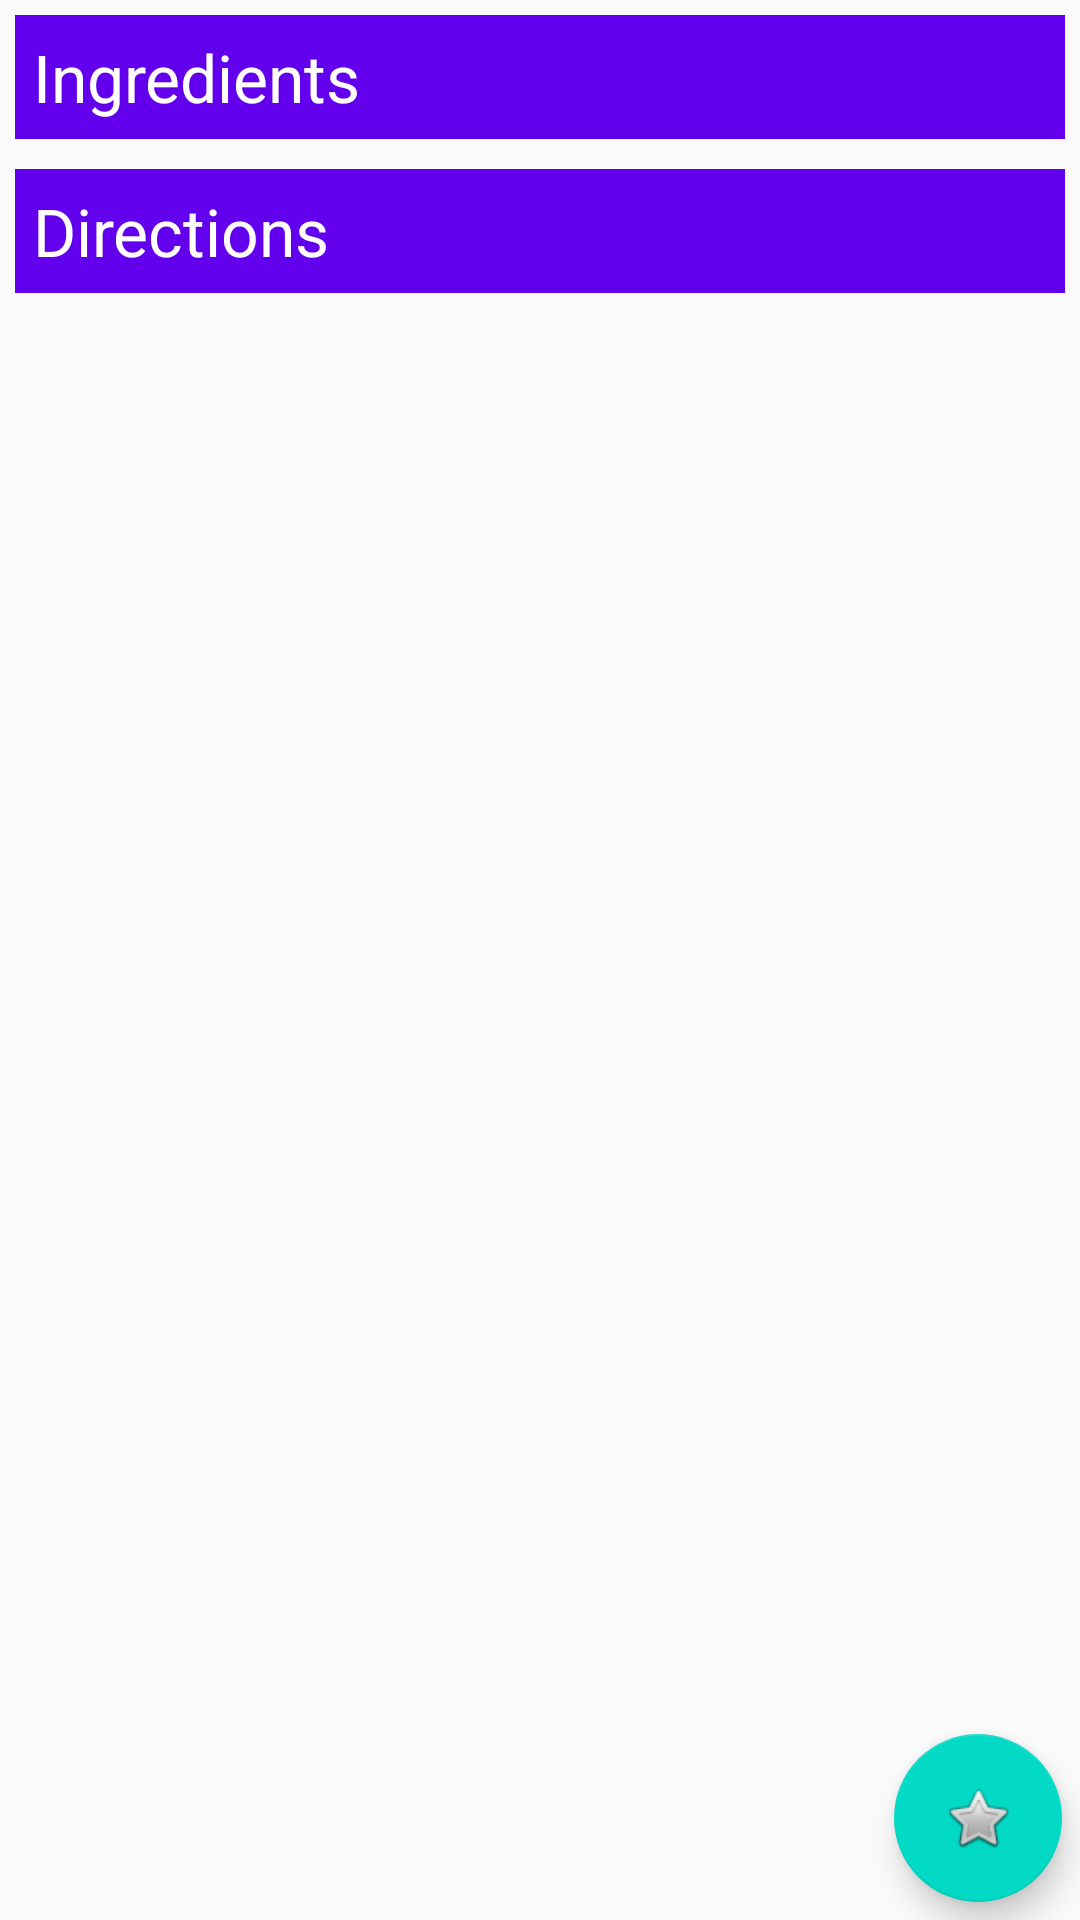

Screen size 1080w x 1920h. Icon name, then its center in pixels as point (x, y):
star: point (978, 1818)
